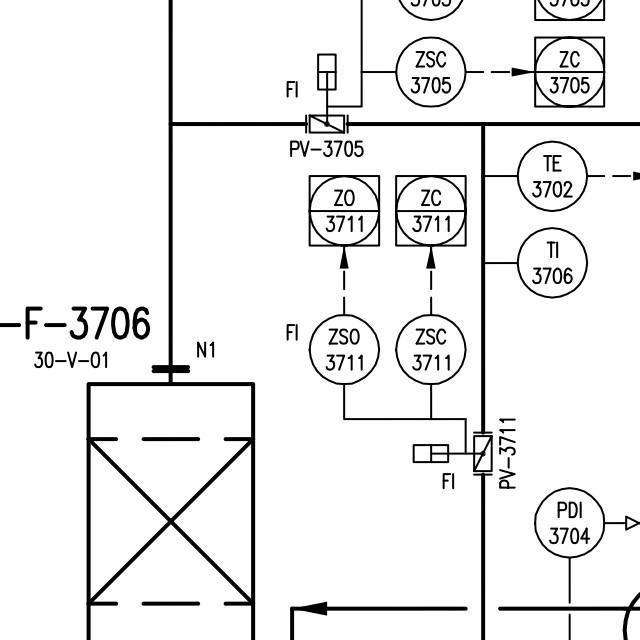BVWA: (406, 424, 500, 481), (301, 47, 354, 136)
D3: (74, 376, 270, 640)
